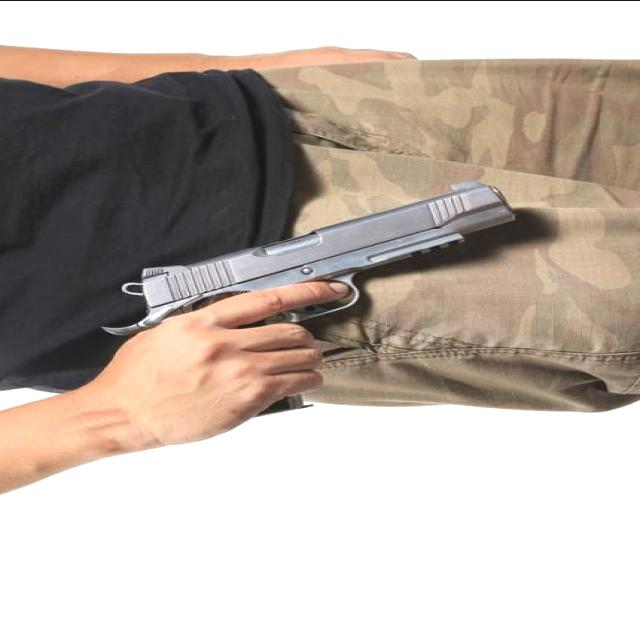handgun: (85, 184, 509, 416)
